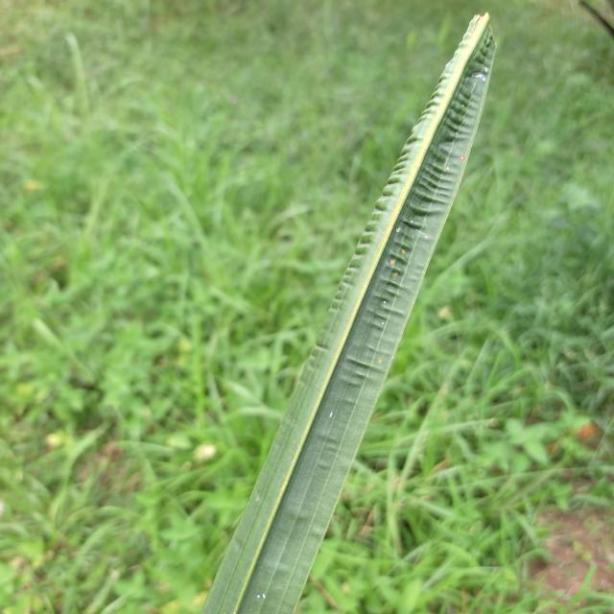Boron: (196, 7, 497, 614)
